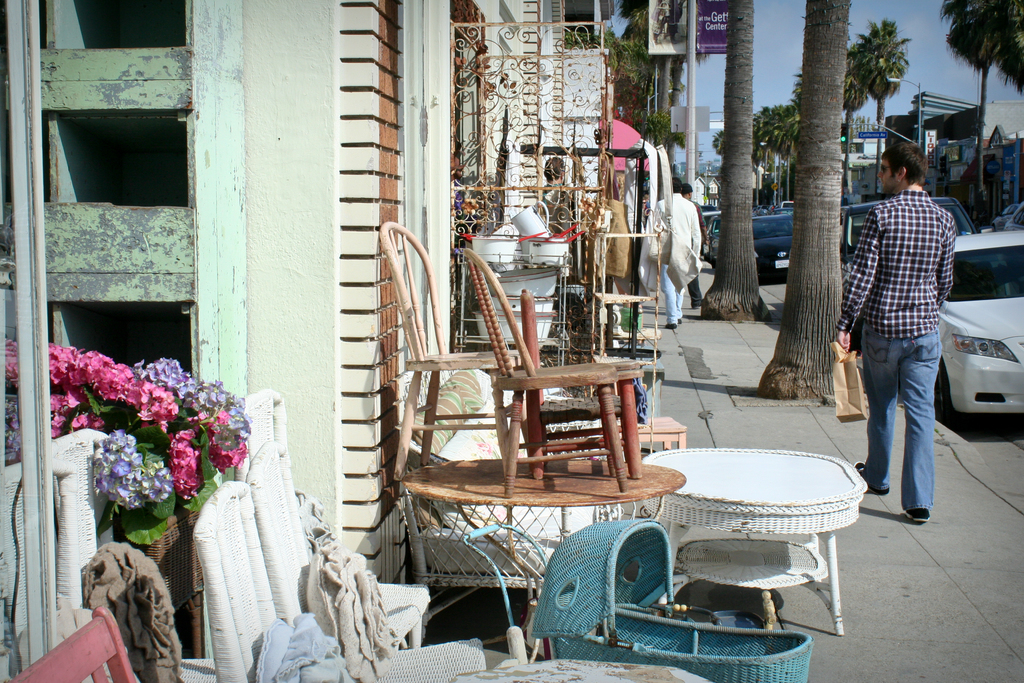Car: (700, 199, 1023, 428)
